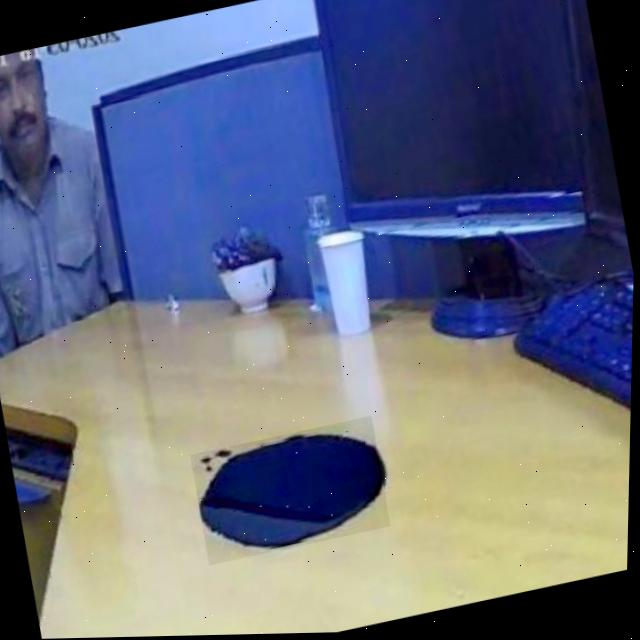spillage: (202, 437, 385, 551)
